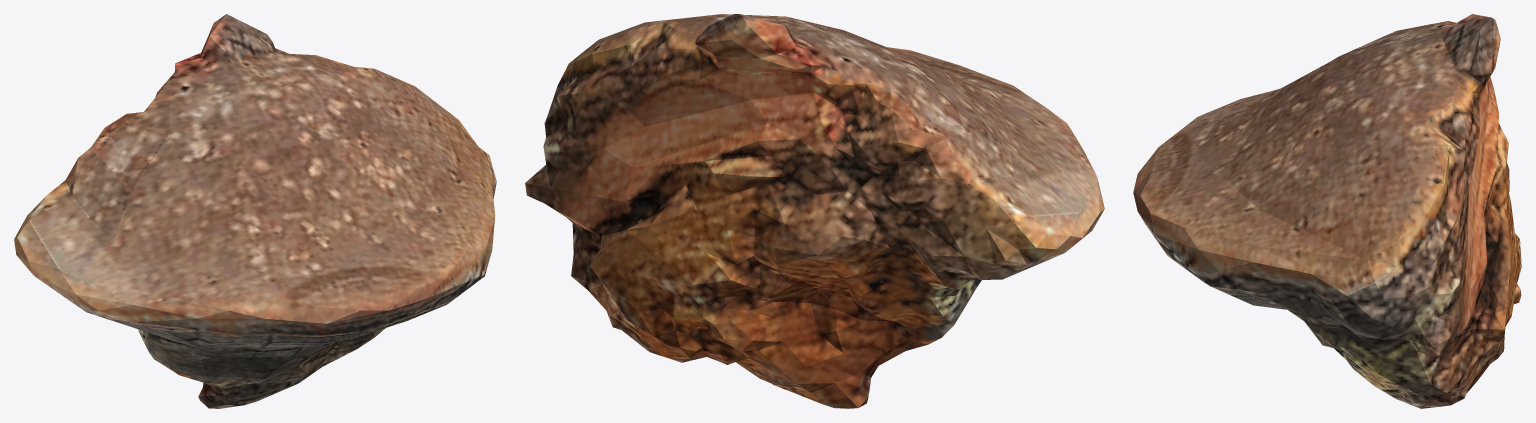
Rendered from P_Lingzhi_04.obj.
The picture shows the model from 3 angles, left to right: view 1: azimuth 30°, elevation 25°; view 2: azimuth 150°, elevation 25°; view 3: azimuth 270°, elevation 25°; orthographic projection. The views are drawn at different scales.
Bounding box in the file's own units: 0.5883 × 0.4434 × 0.4213.
1 material, 1 textured.
